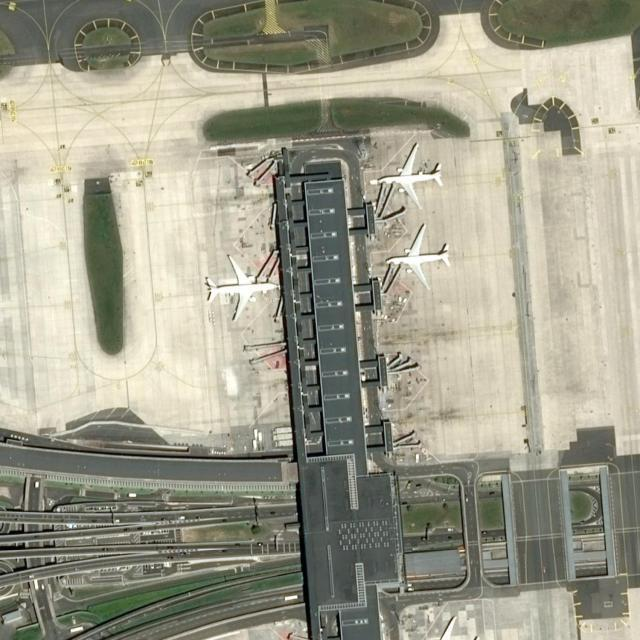Aircraft: (200, 252, 275, 318), (383, 226, 453, 286), (374, 149, 448, 205), (408, 616, 485, 640)
